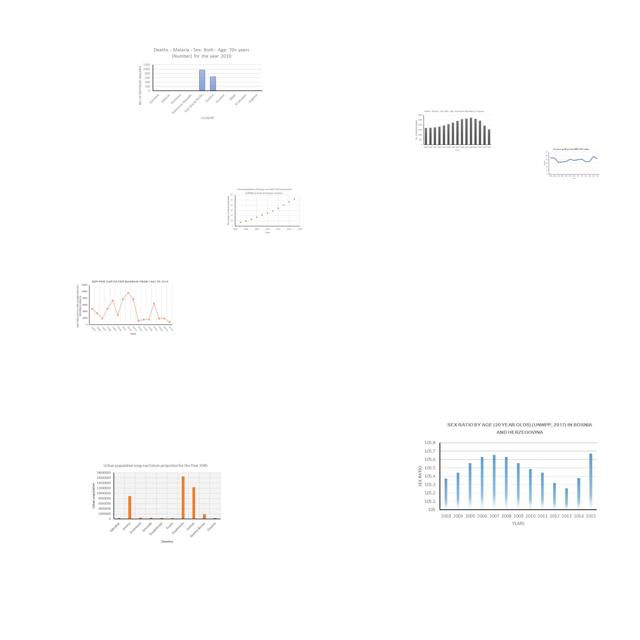Graph: (412, 418, 601, 528), (88, 460, 224, 545), (134, 45, 265, 122), (75, 279, 174, 336), (226, 187, 303, 234), (413, 109, 493, 152), (543, 148, 600, 180)
